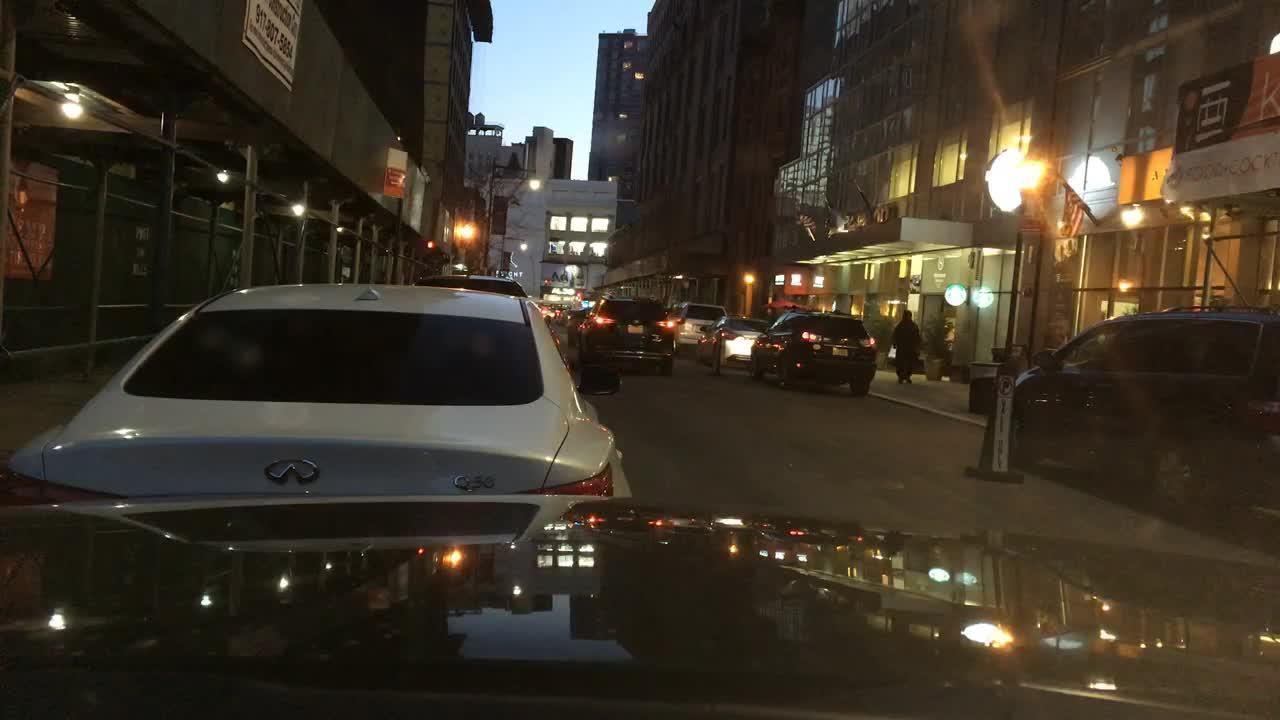Infiniti: (253, 446, 337, 506)
